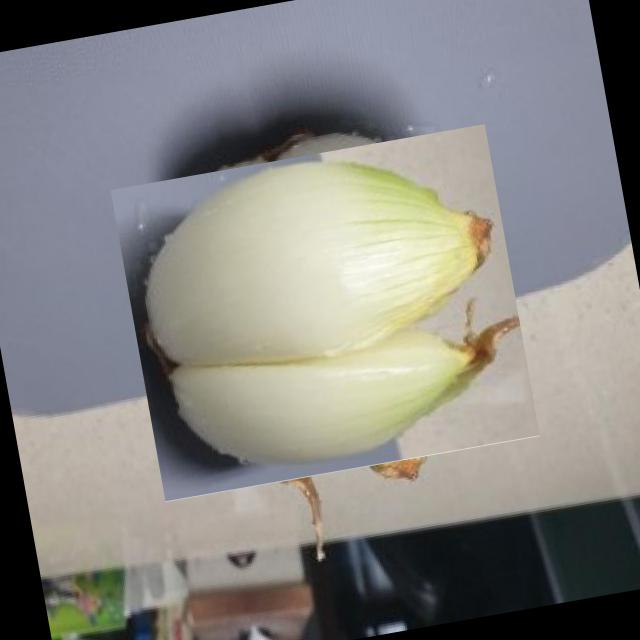Onion: (122, 110, 526, 514)
